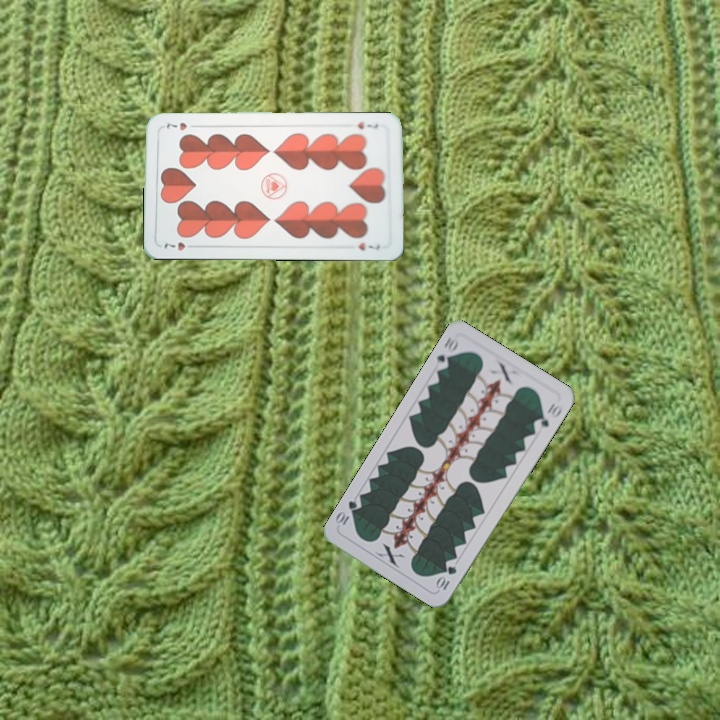G10: (431, 333, 461, 373), (432, 562, 459, 593)
H7: (160, 238, 199, 253), (353, 118, 381, 132)
